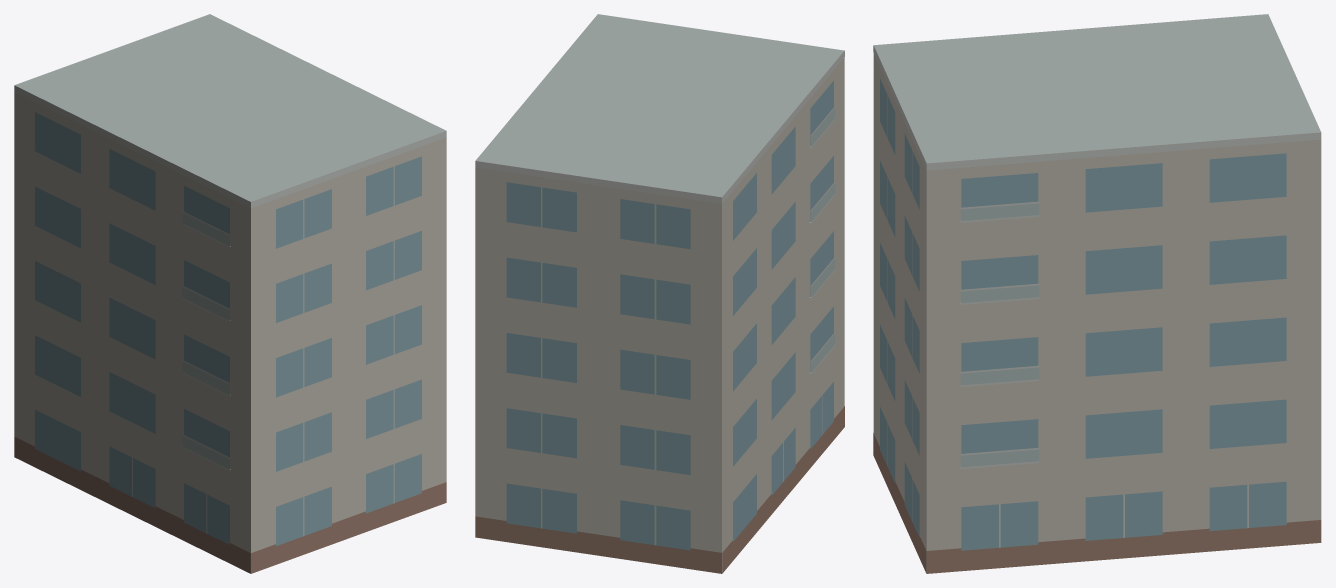
Rendered from survey-upis-32902681.glb.
3 renders of one model, left to right at view 1: azimuth 30°, elevation 25°; view 2: azimuth 150°, elevation 25°; view 3: azimuth 270°, elevation 25°, orthographic. The views are drawn at different scales.
Parts seen in each view (by area): view 1: survey-upis-32902681.tmp; view 2: survey-upis-32902681.tmp; view 3: survey-upis-32902681.tmp.
Boxes of the visible parts, left/top/right/bottom form: survey-upis-32902681.tmp: left=14, top=14, right=446, bottom=573; survey-upis-32902681.tmp: left=475, top=14, right=844, bottom=573; survey-upis-32902681.tmp: left=873, top=14, right=1321, bottom=573.
Bounding box in the file's own units: 11.06 × 14.15 × 14.
